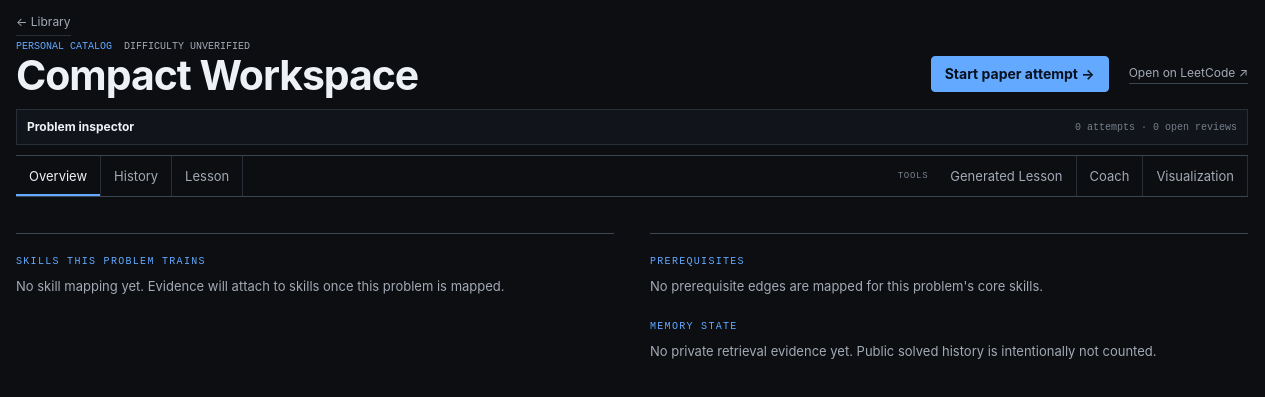
problem workspace groups history and tools behind a compact inspector
Expected: the heading "Compact Workspace" is shown, [16,50,418,100]
Expected: the navigation bar named "Problem modes" is shown, [16,156,243,196]
What coordinates should you click on to do the following:
click the button "History"
I would click on:
 (137, 176)
Its box is [101,156,172,196].
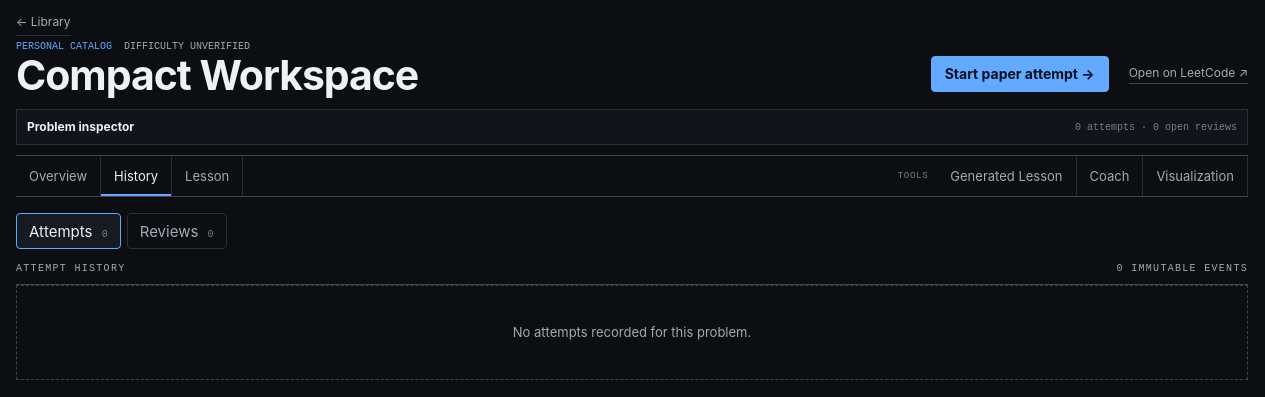
Expected: the navigation bar named "History view" is shown, [16,213,227,249]
What coordinates should you click on to do the following:
click the button "Reviews 0"
I would click on:
 (177, 231)
Its box is [127,213,227,249].
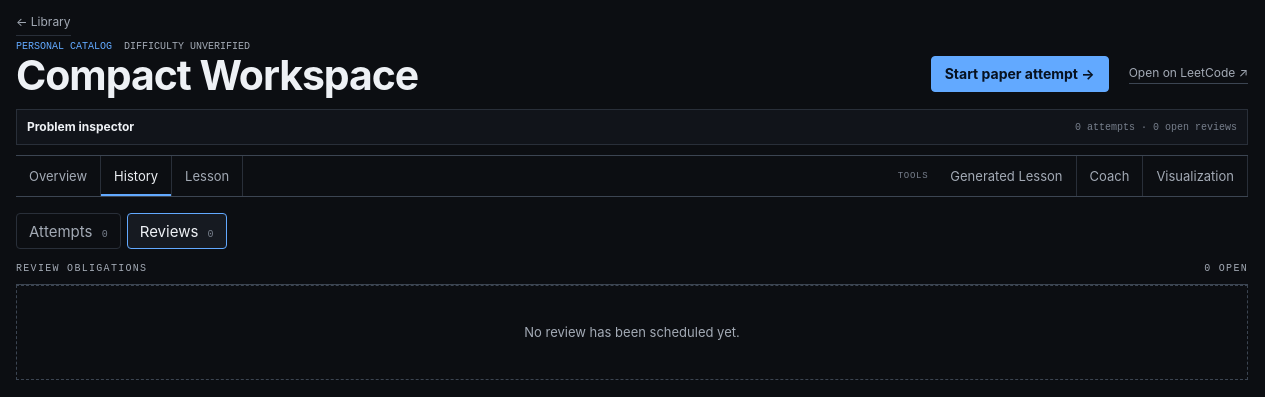
Expected: the text "No review has been scheduled yet." is shown, [16,285,1248,380]
